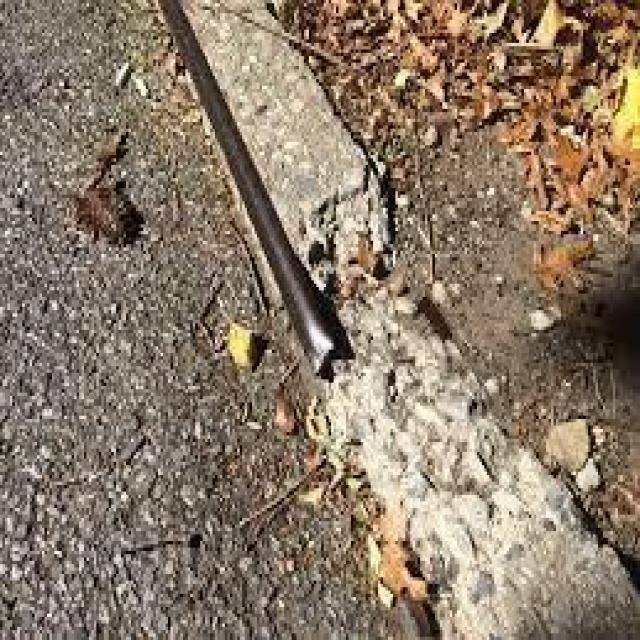curb: (171, 3, 632, 639)
